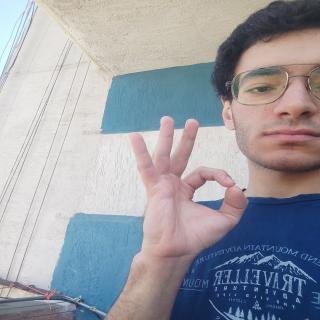Space: (121, 114, 254, 250)
